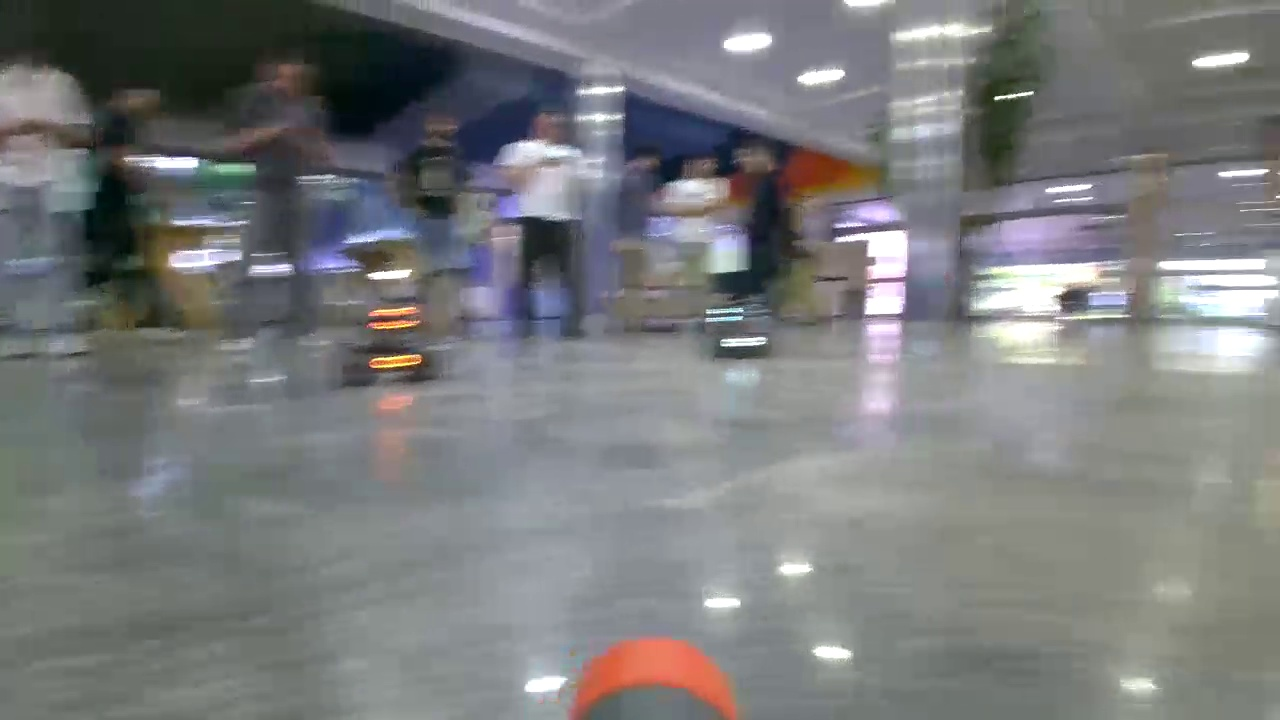robot: (339, 298, 444, 383), (701, 302, 775, 359)
